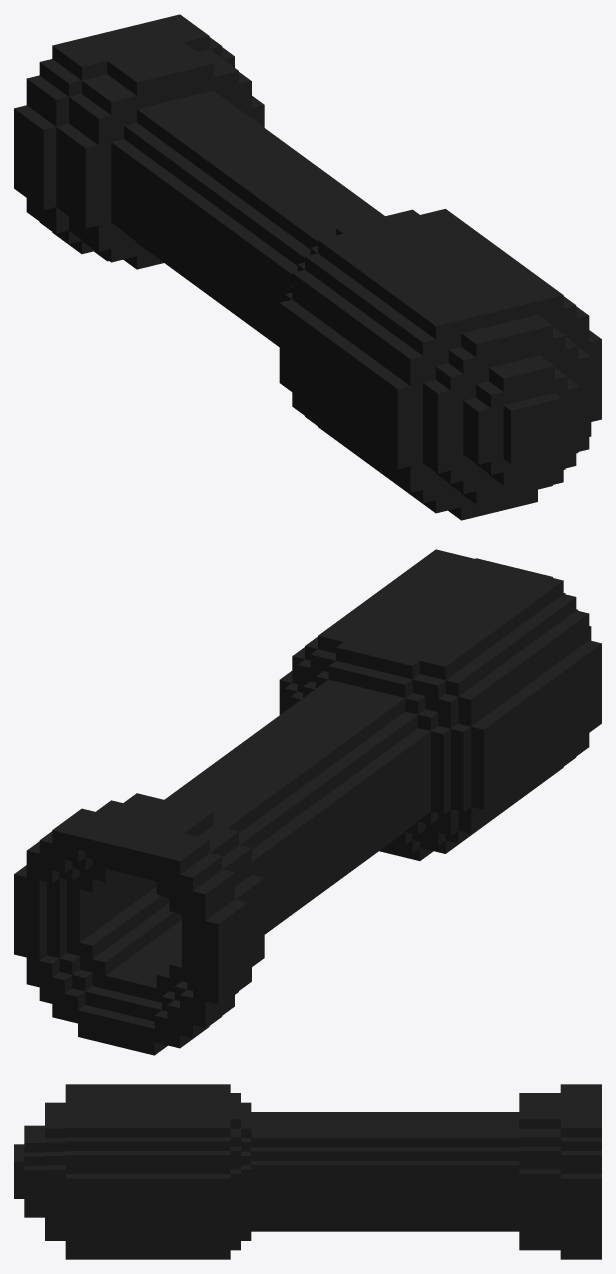
File: Cannon1.obj
3 renders of one model, top to bottom at view 1: azimuth 30°, elevation 25°; view 2: azimuth 150°, elevation 25°; view 3: azimuth 270°, elevation 25°, orthographic. The views are drawn at different scales.
Visible parts, largest first — view 1: Cannon1; view 2: Cannon1; view 3: Cannon1.
Part boxes in pixels (box(x1,y1,x2,y2)): Cannon1: box(14, 14, 601, 520); Cannon1: box(14, 549, 601, 1055); Cannon1: box(14, 1084, 601, 1259).
Bounding box in the file's own units: 16 × 15 × 57.
1 material, 1 textured.
